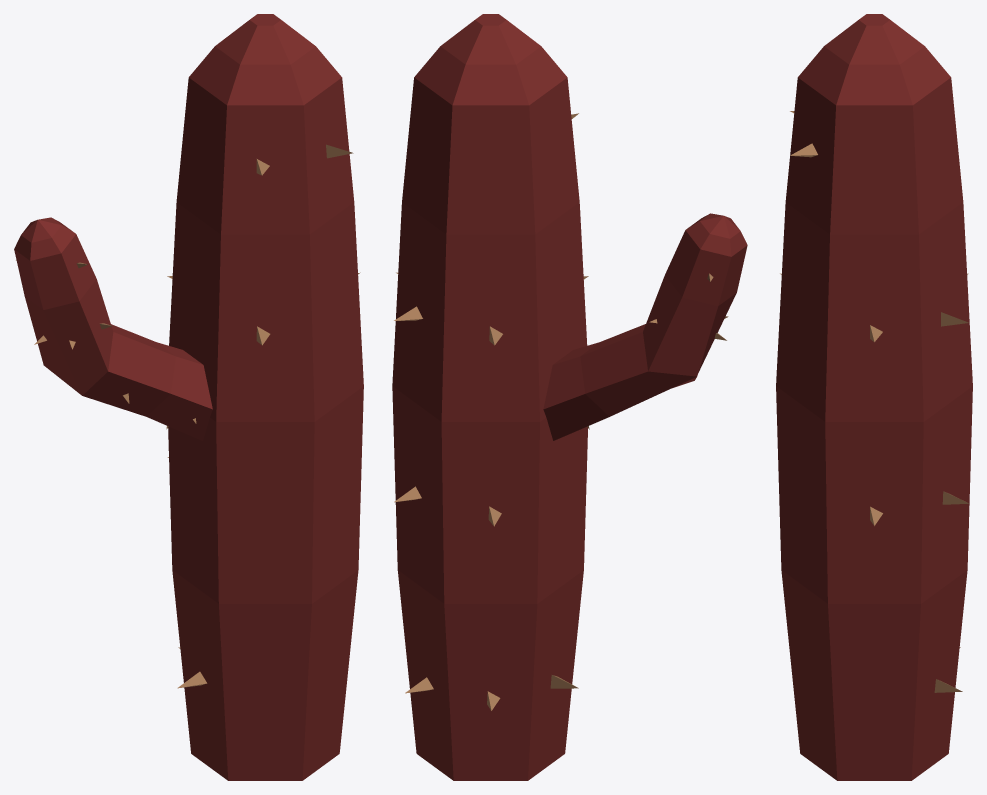
File: Cactus_5_Red.fbx
The picture shows the model from 3 angles, left to right: view 1: azimuth 30°, elevation 25°; view 2: azimuth 150°, elevation 25°; view 3: azimuth 270°, elevation 25°; orthographic projection.
Parts seen in each view (by area): view 1: Cactus_5_Red_Mat_1, Cactus_5_Red_Mat_2; view 2: Cactus_5_Red_Mat_1, Cactus_5_Red_Mat_2; view 3: Cactus_5_Red_Mat_1, Cactus_5_Red_Mat_2.
Boxes of the visible parts, left/top/right/bottom form: Cactus_5_Red_Mat_1: left=14, top=14, right=363, bottom=780; Cactus_5_Red_Mat_2: left=16, top=144, right=360, bottom=688; Cactus_5_Red_Mat_1: left=392, top=14, right=747, bottom=780; Cactus_5_Red_Mat_2: left=394, top=113, right=728, bottom=710; Cactus_5_Red_Mat_1: left=776, top=14, right=972, bottom=780; Cactus_5_Red_Mat_2: left=780, top=111, right=968, bottom=692.
Bounding box in the file's own units: 146 × 299 × 72.81.
